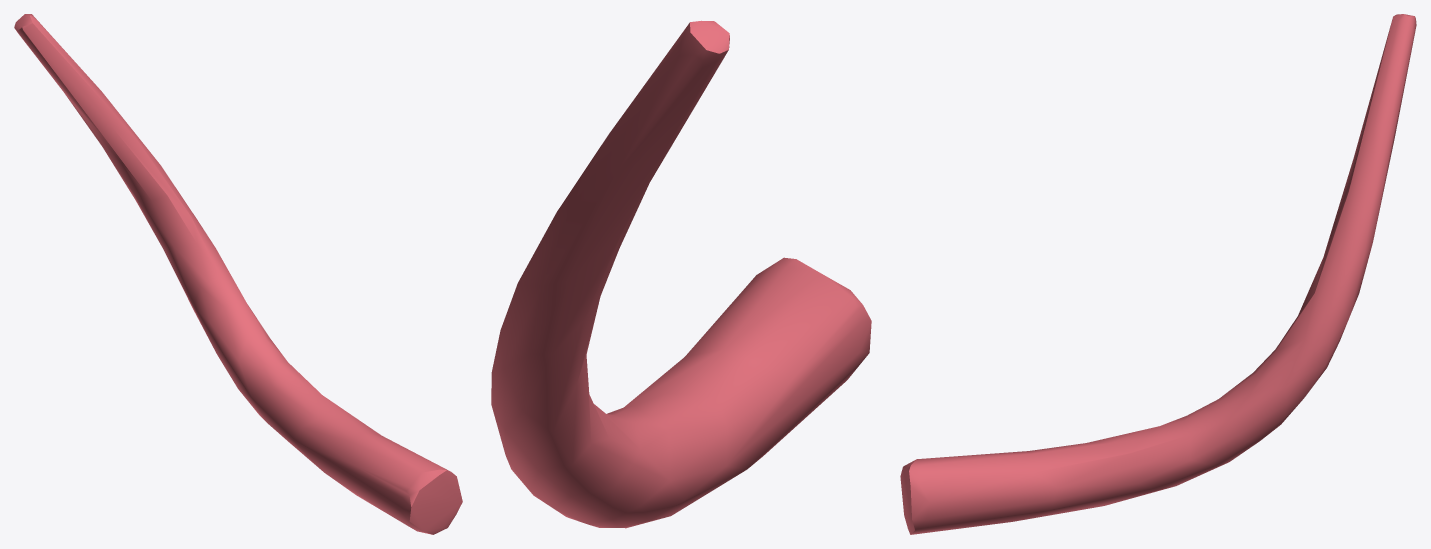
File: fma8627_fj6067.glb
3 renders of one model, left to right at view 1: azimuth 30°, elevation 25°; view 2: azimuth 150°, elevation 25°; view 3: azimuth 270°, elevation 25°, orthographic. The views are drawn at different scales.
Parts seen in each view (by area): view 1: FMA8627_FJ6067; view 2: FMA8627_FJ6067; view 3: FMA8627_FJ6067.
Part boxes in pixels (box(x1,y1,x2,y2)): FMA8627_FJ6067: box(14, 14, 462, 534); FMA8627_FJ6067: box(491, 20, 871, 528); FMA8627_FJ6067: box(900, 14, 1416, 534).
Size of the model in its own units: 0.0213 by 0.0367 by 0.0405.
